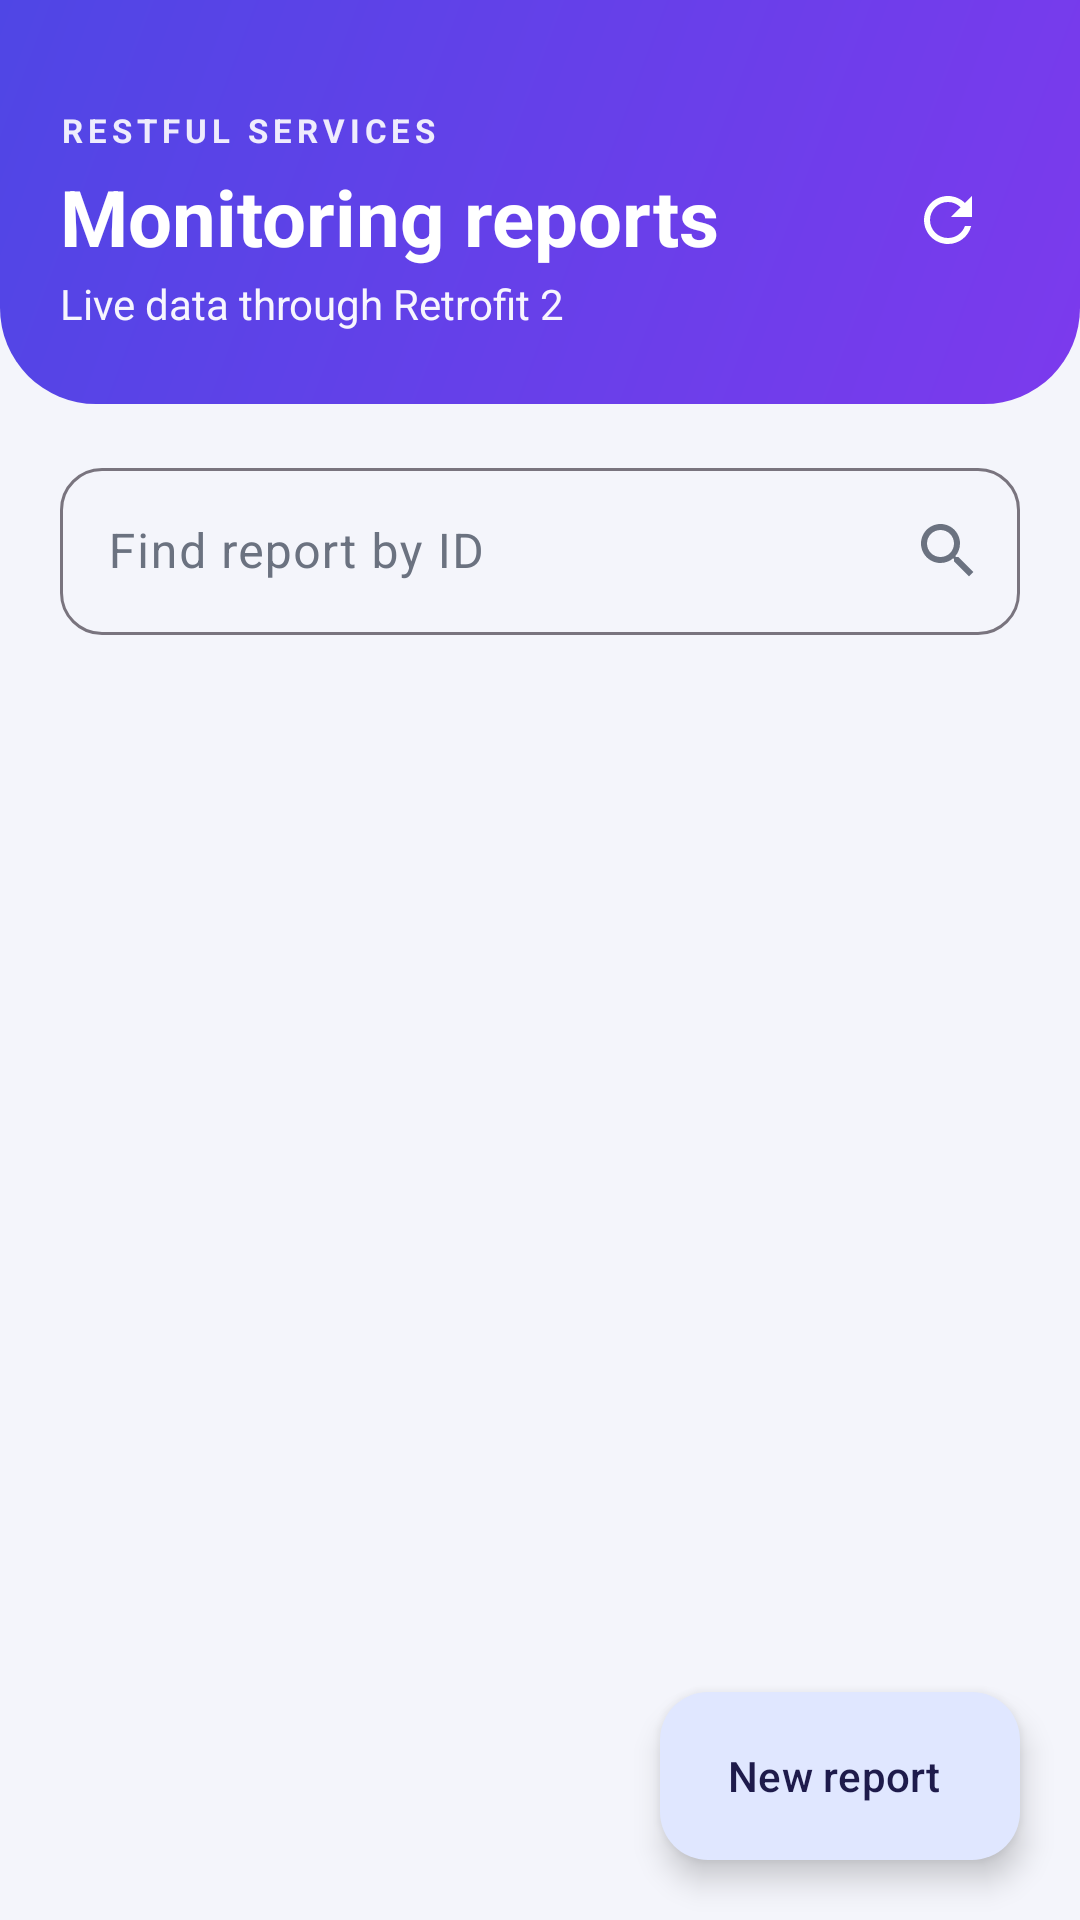

Icons on this 1080*1920 Android screen, each with its box as (x1, y1, x2, y2):
Refresh reports: (924, 196, 972, 244)
